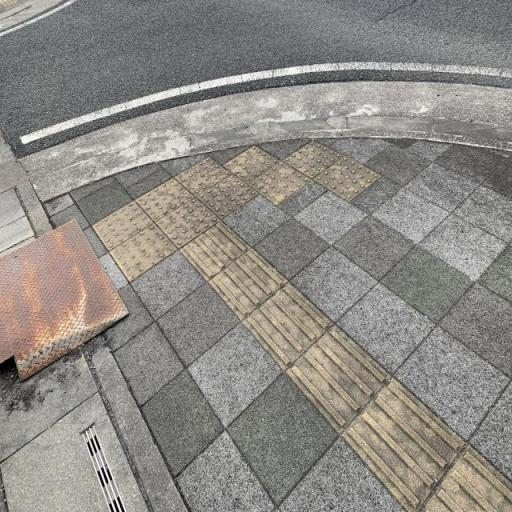dot: (110, 223, 178, 282), (156, 197, 219, 248), (91, 200, 154, 250), (315, 156, 382, 201), (135, 178, 195, 223), (249, 162, 309, 206), (200, 175, 258, 220), (222, 144, 279, 185), (175, 157, 232, 197), (282, 140, 341, 178)
line: (343, 381, 465, 511), (287, 324, 390, 431), (242, 285, 333, 369), (207, 247, 290, 322), (423, 447, 511, 511), (180, 221, 251, 280)
